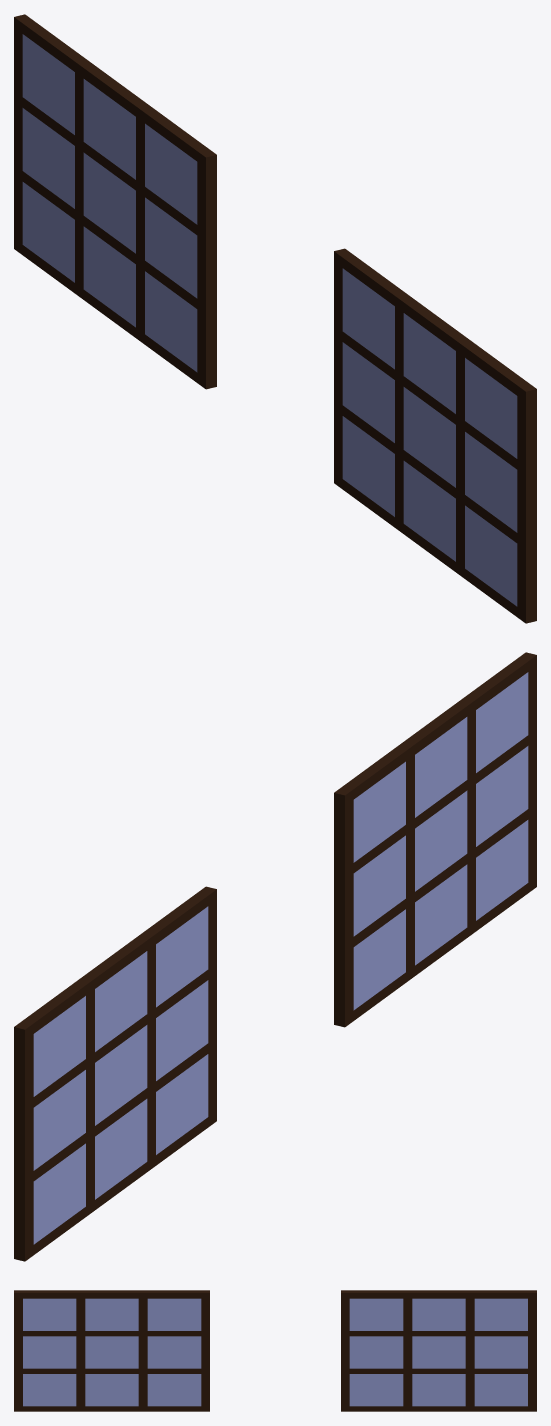
Rendered from SM_RightWall_Windows.fbx.
3 renders of one model, top to bottom at view 1: azimuth 30°, elevation 25°; view 2: azimuth 150°, elevation 25°; view 3: azimuth 270°, elevation 25°, orthographic. The views are drawn at different scales.
Parts seen in each view (by area): view 1: Windows; view 2: Windows; view 3: Windows.
Part boxes in pixels (<box>): Windows: <box>14,14,536,623</box>; Windows: <box>14,652,536,1261</box>; Windows: <box>14,1290,536,1411</box>.
Size of the model in its own units: 5 by 100 by 400.
